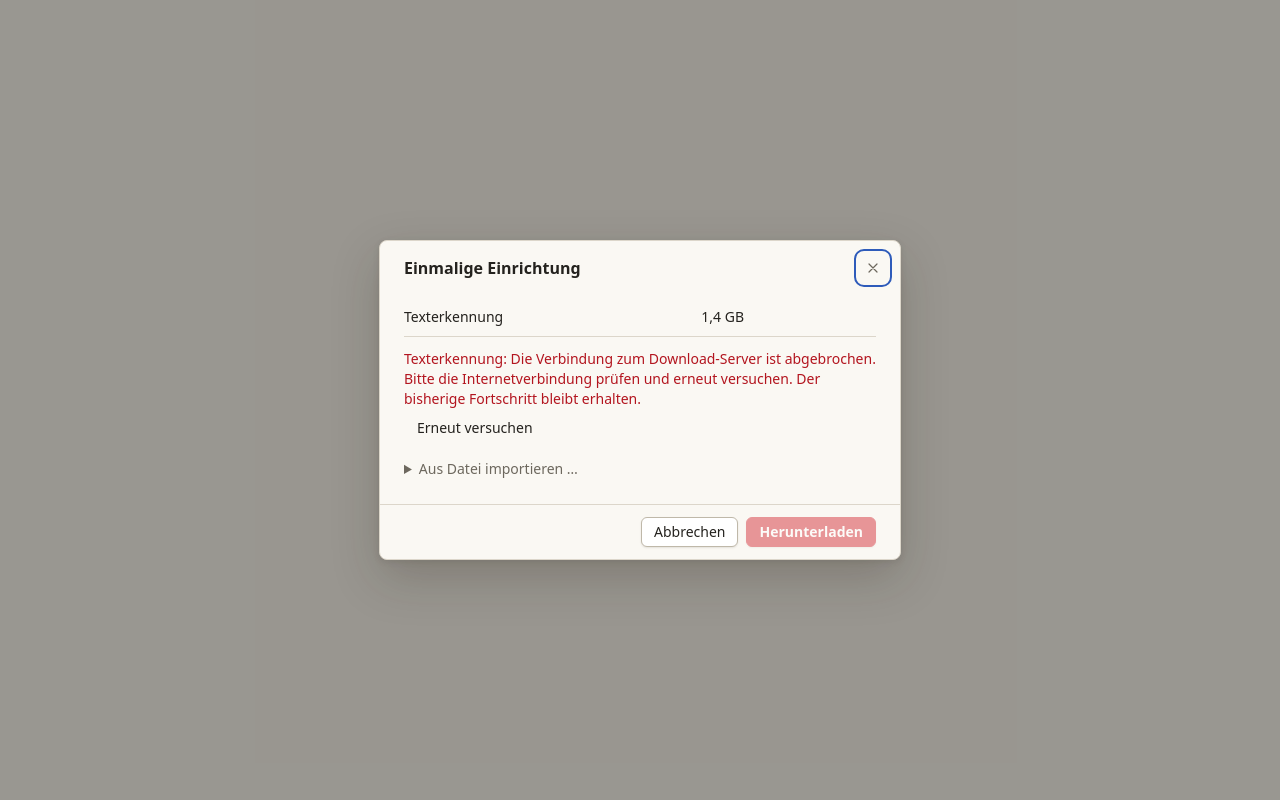
Scenario: SetupDialog recovery › offers to retry when the model state cannot be loaded and reloads it
This screenshot has width=1280, height=800.
Check: the button "Herunterladen" is disabled, box left=746, top=517, right=876, bottom=547
Click the button "Erneut versuchen": (475, 428) left=404, top=413, right=546, bottom=443
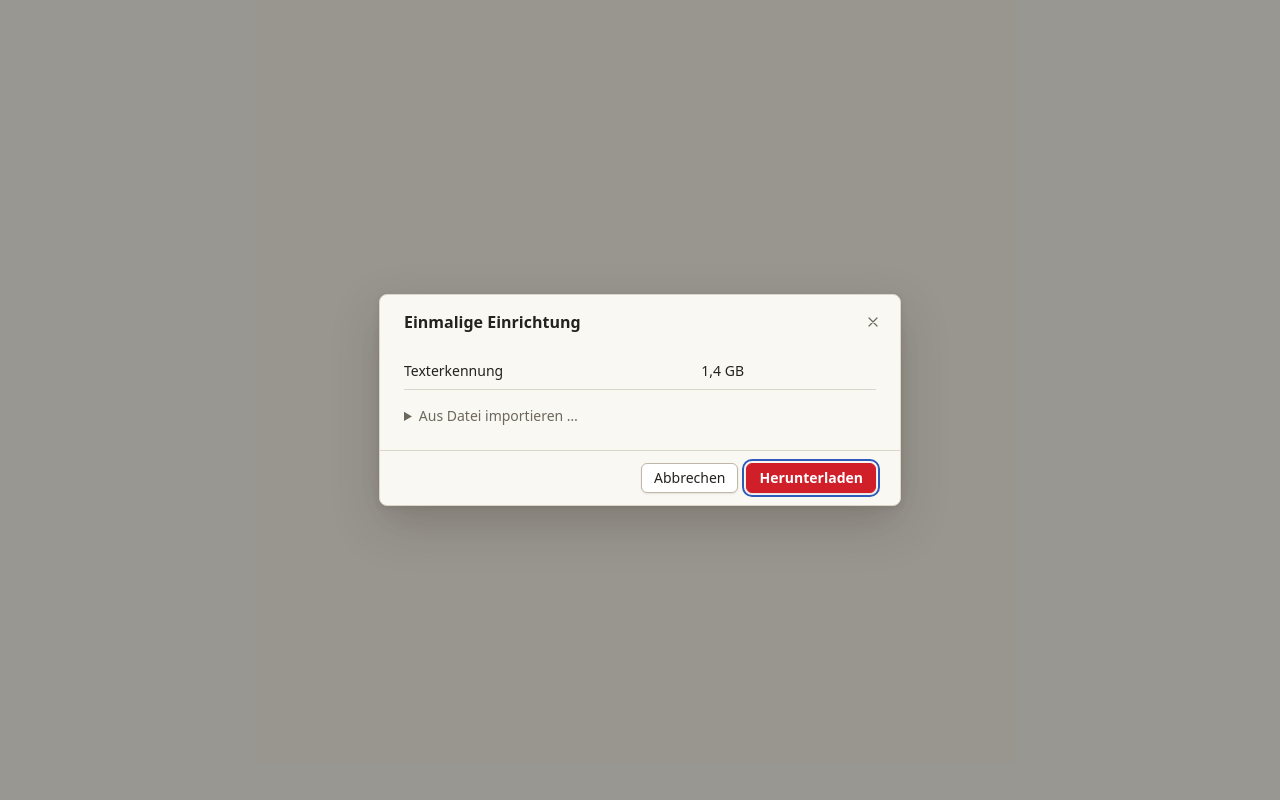
Check: the button "Herunterladen" is enabled, box left=746, top=463, right=876, bottom=493
